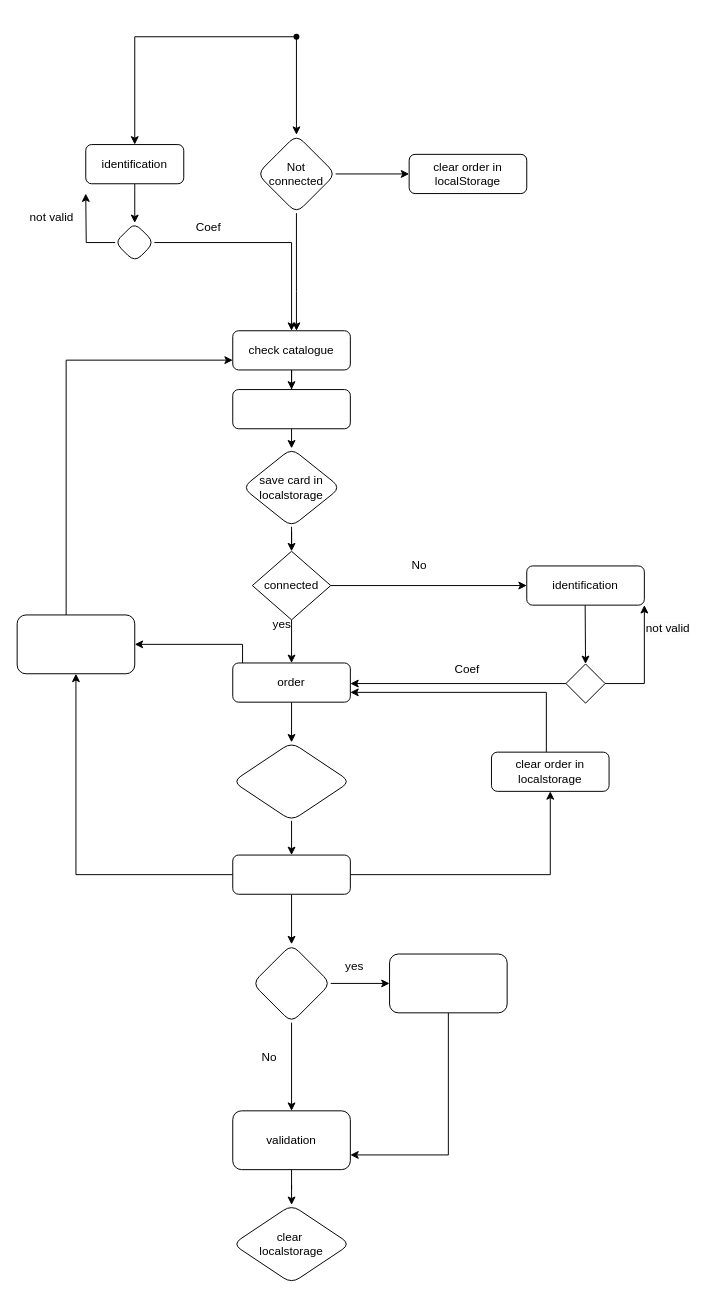
Some shapes in this 711 by 1300 pixel diagram are drawn without their labels. Each missing label, with the box of its shape:
add to card: (232, 389, 350, 429)
Check summary: (232, 854, 350, 894)
clear card in localstorage: (16, 614, 135, 674)
payment: (389, 953, 507, 1013)
private: (251, 943, 331, 1023)
save order in localstorage: (232, 741, 350, 821)
